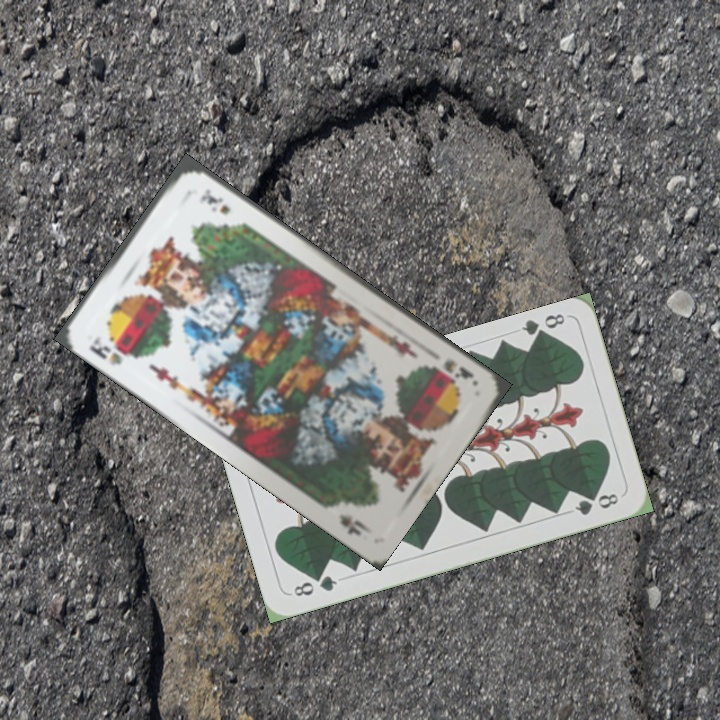G8: (517, 309, 568, 344), (289, 571, 340, 599)
SK: (85, 332, 125, 369), (439, 355, 477, 382)
